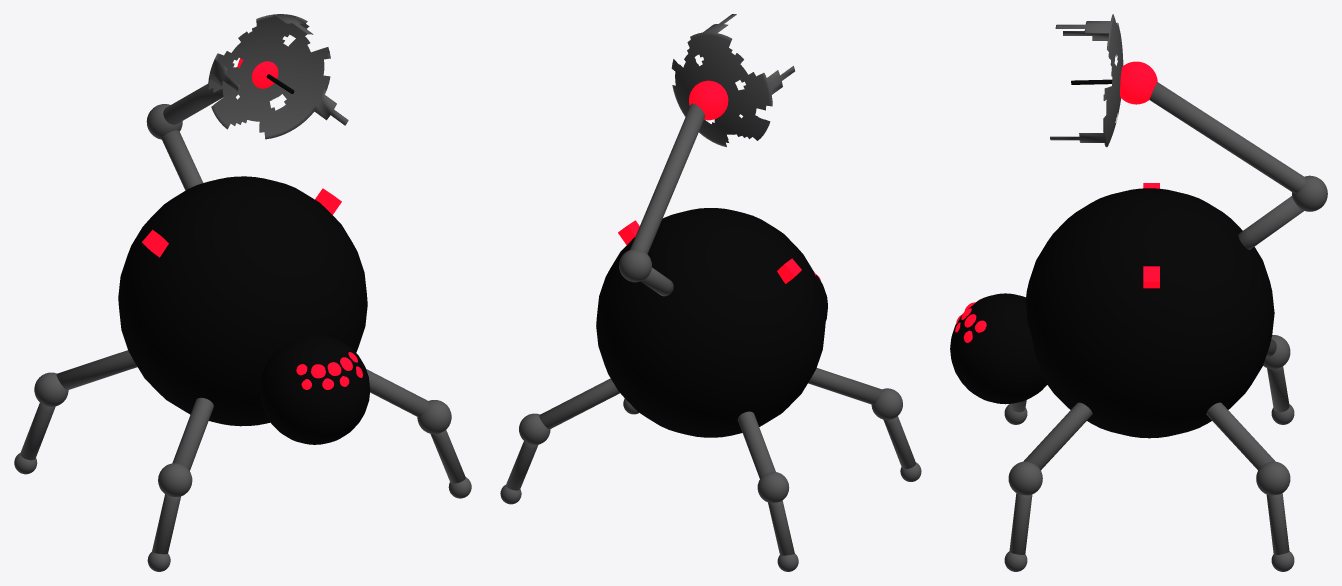
The model's file is araigner.fbx.
3 views of the same model, side by side, from view 1: azimuth 30°, elevation 25°; view 2: azimuth 150°, elevation 25°; view 3: azimuth 270°, elevation 25° (orthographic). The views are drawn at different scales.
Parts seen in each view (by area): view 1: corp, Parabole, tete, Cylinder, Cylinder.001, Cylinder.002, Cylinder.003, Cube, tete.001, tete.002; view 2: corp, Parabole, Cylinder, Cylinder.001, Cylinder.003, tete.002, tete.001, Cube; view 3: corp, tete, Cylinder, Cylinder.001, Cylinder.003, Parabole, Cylinder.002, tete.002, tete.001, Cube.
Boxes of the visible parts, <box> form: corp: <box>118,176,367,426</box>; Parabole: <box>208,14,348,139</box>; tete: <box>259,334,370,444</box>; Cylinder: <box>34,350,451,496</box>; Cylinder.001: <box>14,403,471,571</box>; Cylinder.002: <box>161,130,203,190</box>; Cylinder.003: <box>163,67,237,124</box>; Cube: <box>142,188,341,257</box>; tete.001: <box>146,104,182,139</box>; tete.002: <box>237,58,278,88</box>; corp: <box>596,208,825,437</box>; Parabole: <box>671,14,794,147</box>; Cylinder: <box>519,368,902,502</box>; Cylinder.001: <box>500,398,921,571</box>; Cylinder.003: <box>630,103,705,253</box>; tete.002: <box>689,80,728,120</box>; tete.001: <box>619,249,651,282</box>; Cube: <box>618,220,801,283</box>; corp: <box>1025,188,1274,438</box>; tete: <box>950,293,1047,404</box>; Cylinder: <box>1008,335,1290,495</box>; Cylinder.001: <box>1004,366,1294,571</box>; Cylinder.003: <box>1149,82,1306,193</box>; Parabole: <box>1050,14,1123,147</box>; Cylinder.002: <box>1238,196,1303,249</box>; tete.002: <box>1120,61,1157,104</box>; tete.001: <box>1292,175,1327,211</box>; Cube: <box>1143,183,1159,288</box>.
Bounding box in the file's own units: 1486 × 2134 × 1515.
